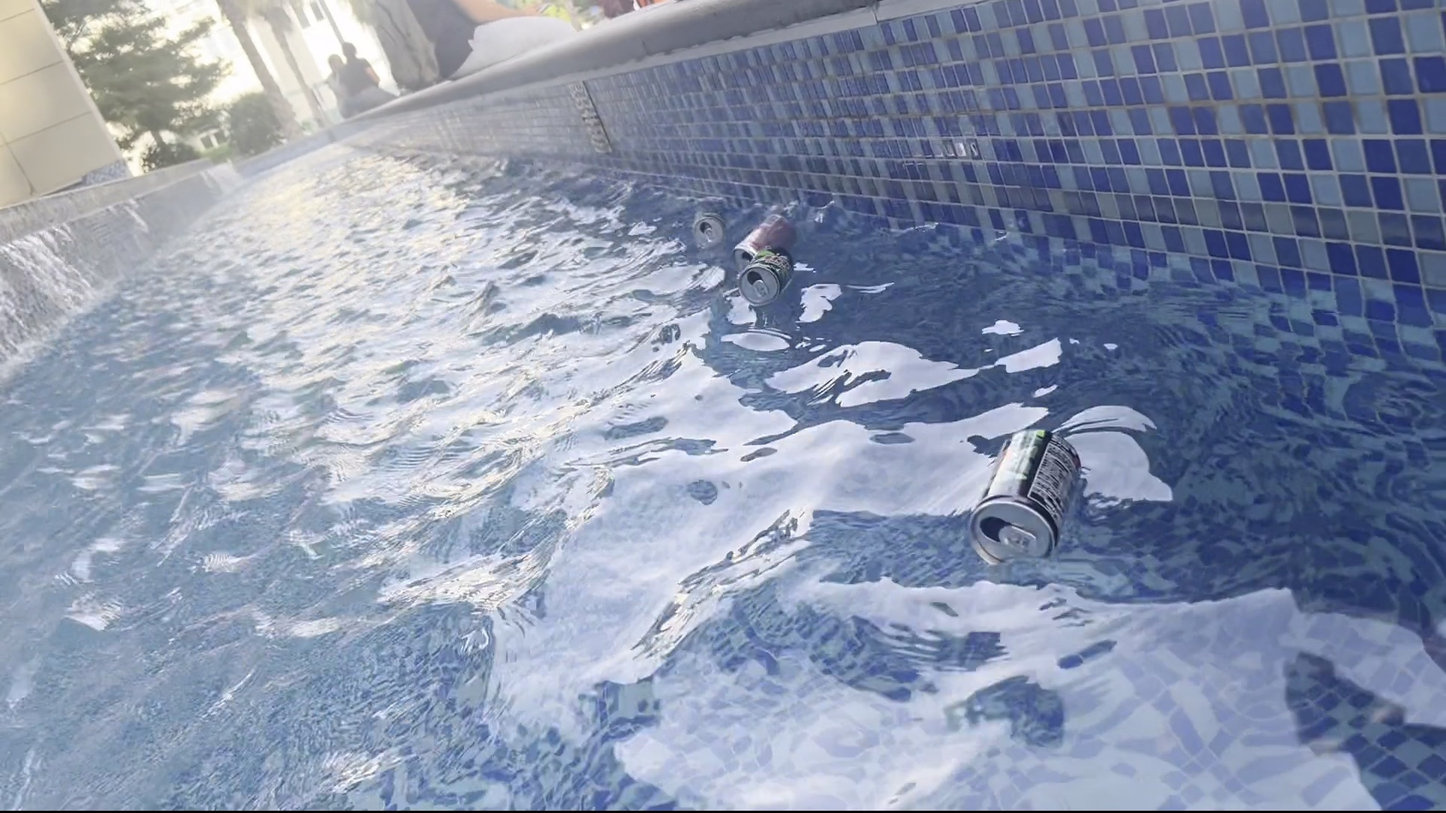debris: (960, 418, 1095, 577), (730, 243, 801, 310), (731, 202, 794, 274), (685, 203, 731, 254)
